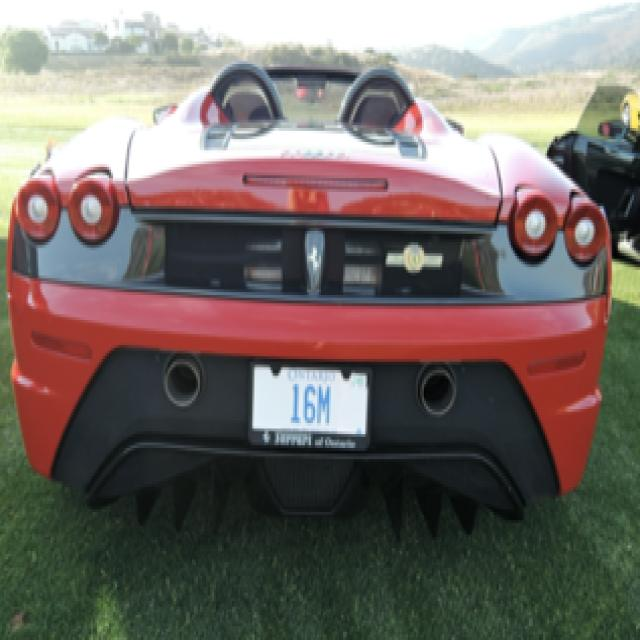license_plate: (248, 362, 366, 456)
